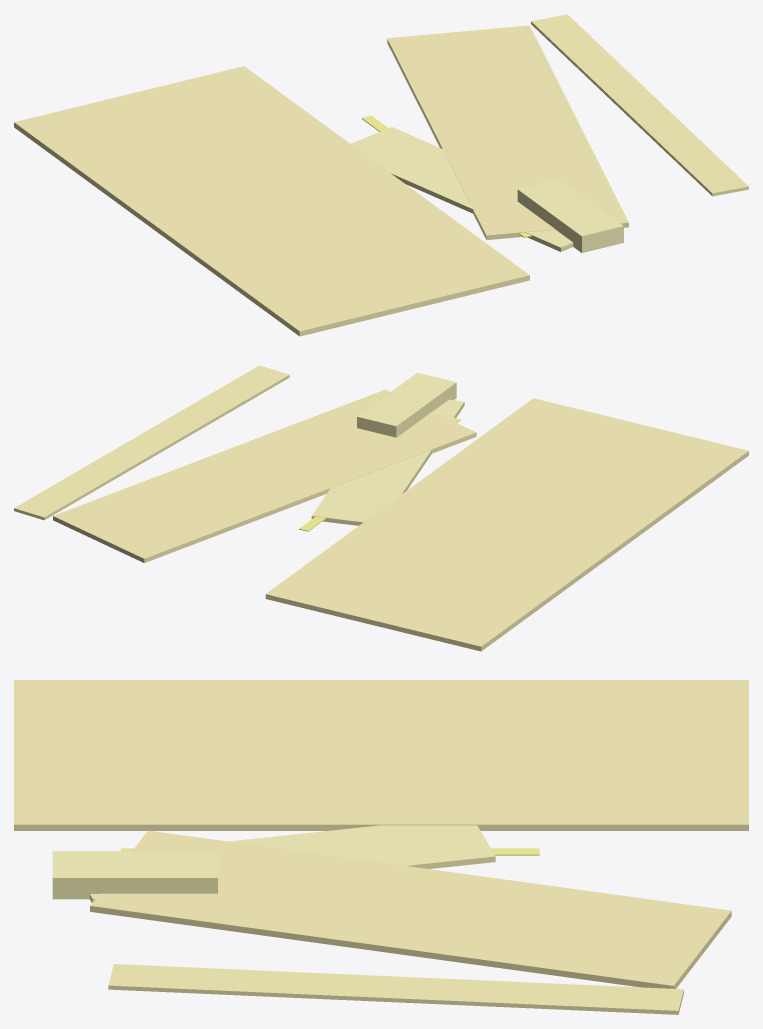
File: road_roundabout_bypass_slip_lane.glb
The picture shows the model from 3 angles, top to bottom: view 1: azimuth 30°, elevation 25°; view 2: azimuth 150°, elevation 25°; view 3: azimuth 270°, elevation 25°; orthographic projection. The views are drawn at different scales.
Parts seen in each view (by area): view 1: mainline_entry, slip_lane, outer_shoulder, separator_apron, splitter_nub; view 2: mainline_entry, slip_lane, outer_shoulder, separator_apron, splitter_nub; view 3: mainline_entry, slip_lane, outer_shoulder, separator_apron, splitter_nub.
Part boxes in pixels (x1,y1,x2,y2): mainline_entry: [14, 66, 529, 336]; slip_lane: [387, 25, 628, 240]; outer_shoulder: [531, 14, 748, 196]; separator_apron: [350, 127, 573, 251]; splitter_nub: [517, 179, 623, 252]; mainline_entry: [265, 398, 748, 651]; slip_lane: [53, 389, 476, 562]; outer_shoulder: [14, 365, 289, 520]; separator_apron: [311, 399, 464, 525]; splitter_nub: [357, 372, 456, 437]; mainline_entry: [14, 680, 748, 830]; slip_lane: [90, 830, 731, 988]; outer_shoulder: [108, 964, 683, 1014]; separator_apron: [89, 825, 495, 902]; splitter_nub: [52, 851, 217, 899].
Size of the model in its own units: 4.25 by 0.13 by 4.
